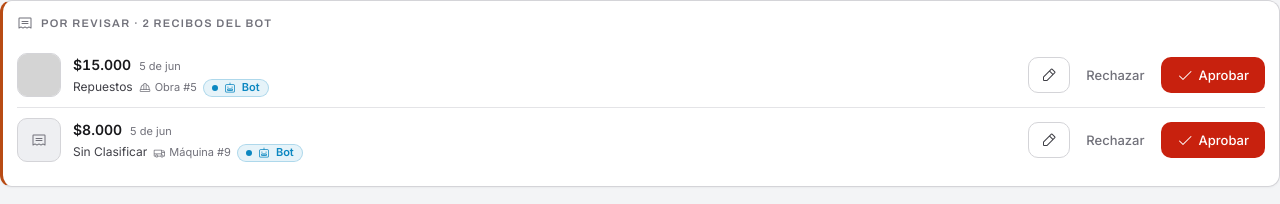
Test case: BandejaRevision — cola de recibos del bot (F5) › aprobar dispara POST /gastos/{id}/aprobar y quita la fila optimista
Expected: the heading "Por revisar · 2 recibos del bot" is shown, [41,16,272,30]
Click the button "Aprobar" in the row of "Obra #".
click(1213, 75)  # box [1160,57,1265,93]
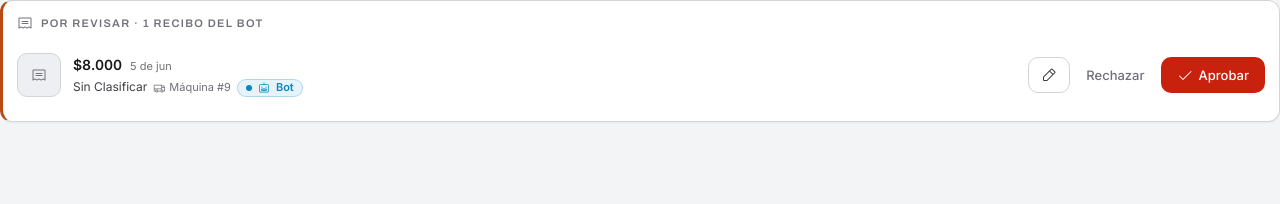
Expected: the heading "Por revisar · 1 recibo del bot" is shown, [41,16,264,30]
Expected: the text "$15.000" is gone
